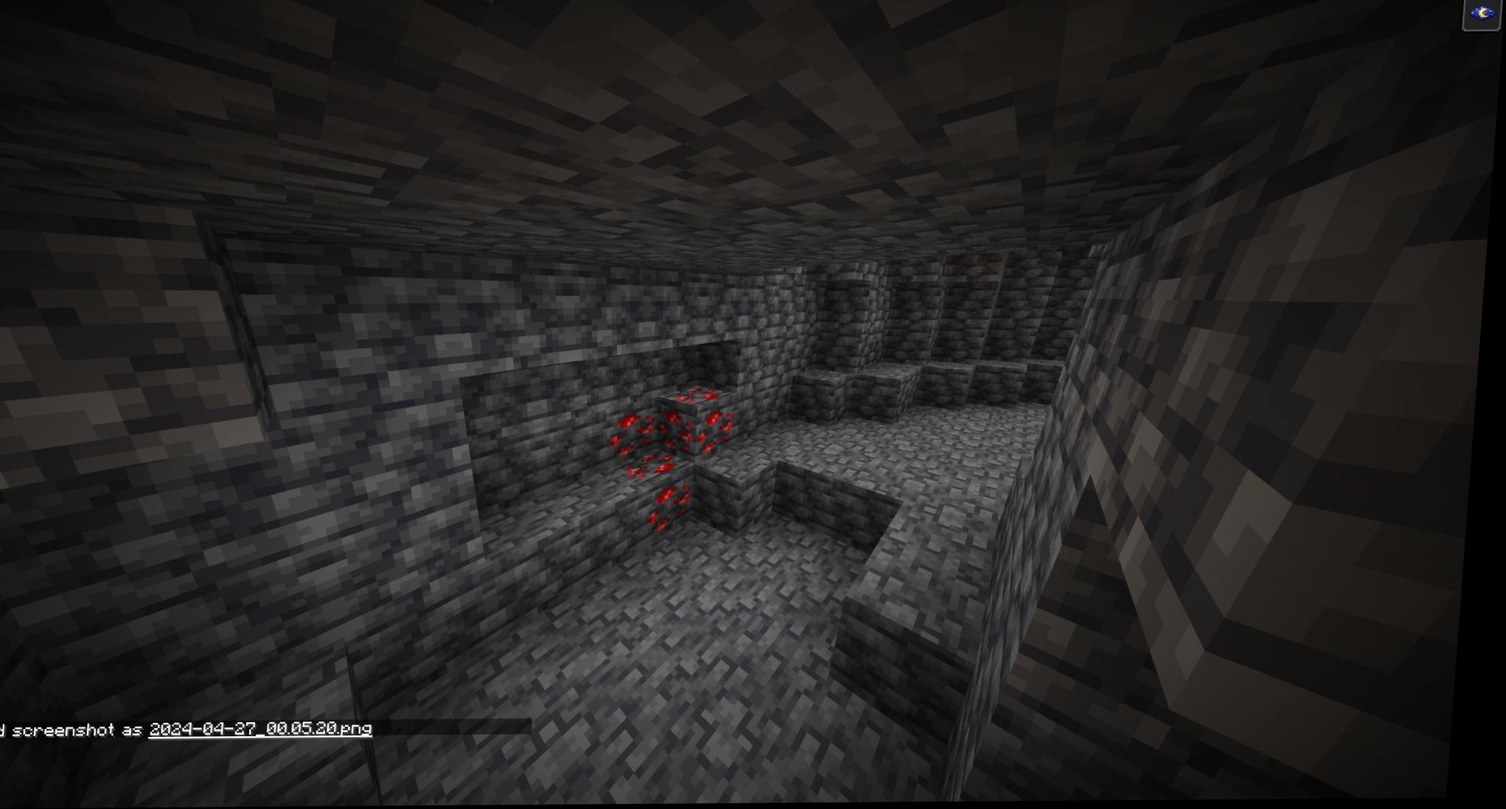redstone ore: (660, 480, 707, 536), (625, 452, 692, 486), (667, 406, 710, 458), (616, 415, 671, 453), (704, 406, 747, 453), (681, 384, 727, 408)
